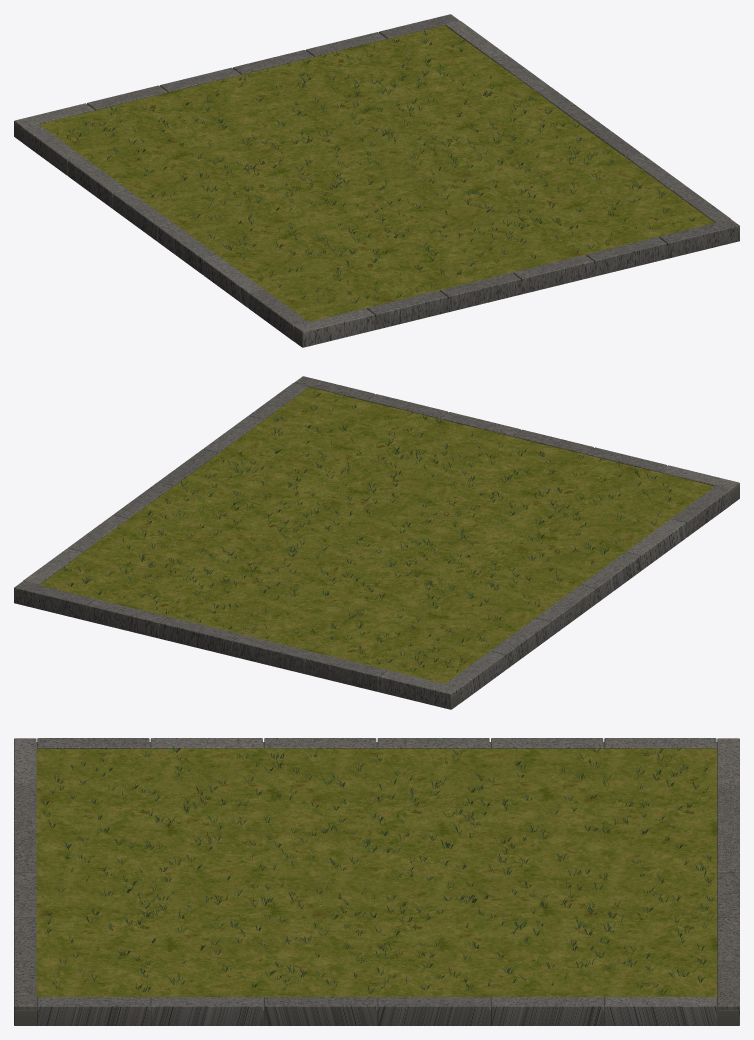
The model's file is floor-grass-wide.glb.
The picture shows the model from 3 angles, top to bottom: view 1: azimuth 30°, elevation 25°; view 2: azimuth 150°, elevation 25°; view 3: azimuth 270°, elevation 25°; orthographic projection. The views are drawn at different scales.
Visible parts, largest first — view 1: Turf_surface, Perimeter_granite, Trimmed_blades; view 2: Turf_surface, Perimeter_granite, Trimmed_blades; view 3: Turf_surface, Perimeter_granite, Trimmed_blades, Compacted_base_and_visible_joints.
Boxes of the visible parts, x1,y1,x2,y2 form: Turf_surface: (39, 25, 714, 321); Perimeter_granite: (14, 14, 739, 347); Trimmed_blades: (54, 30, 696, 303); Turf_surface: (39, 387, 714, 683); Perimeter_granite: (14, 376, 739, 709); Trimmed_blades: (62, 391, 671, 672); Turf_surface: (36, 748, 717, 997); Perimeter_granite: (14, 738, 739, 1025); Trimmed_blades: (41, 746, 714, 995); Compacted_base_and_visible_joints: (15, 742, 738, 1025).
Bounding box in the file's own units: 2.8 × 0.1249 × 3.2.
4 materials, 2 textured.
